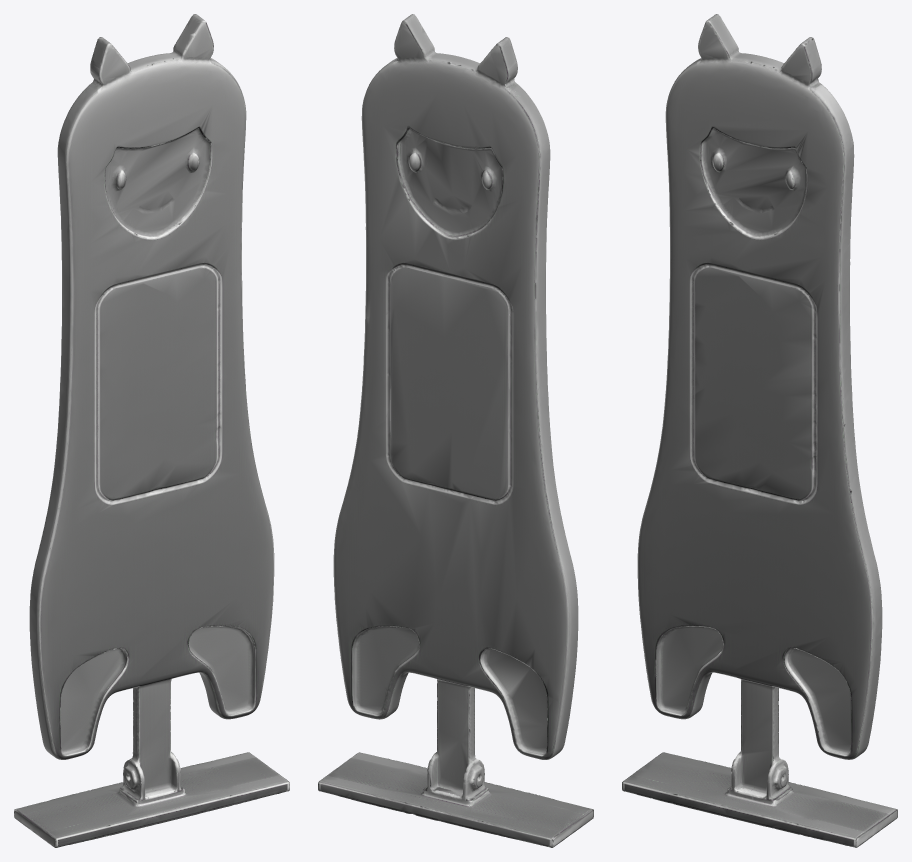
The model's file is Meshy_AI_Silver_Sentinel_0525005739_texture.fbx.
3 renders of one model, left to right at view 1: azimuth 30°, elevation 25°; view 2: azimuth 150°, elevation 25°; view 3: azimuth 330°, elevation 25°, orthographic.
Visible parts, largest first — view 1: Mesh_0; view 2: Mesh_0; view 3: Mesh_0.
Part boxes in pixels (x1,y1,x2,y2): Mesh_0: (14,14,289,847); Mesh_0: (318,14,593,847); Mesh_0: (622,14,897,847).
Bounding box in the file's own units: 61.19 × 191 × 18.57.
Materials: 1 (1 with a texture image).
